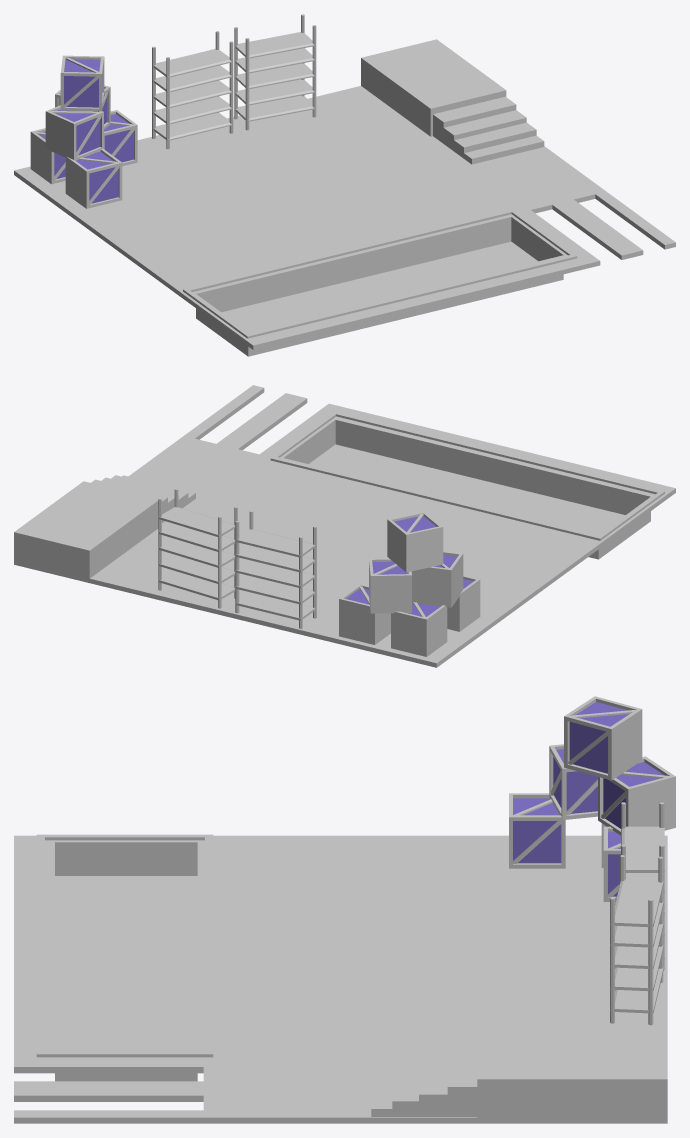
The model's file is Menu.fbx.
3 renders of one model, top to bottom at view 1: azimuth 30°, elevation 25°; view 2: azimuth 150°, elevation 25°; view 3: azimuth 270°, elevation 25°, orthographic. The views are drawn at different scales.
Visible parts, largest first — view 1: Cube.006; view 2: Cube.006; view 3: Cube.006.
Boxes of the visible parts, x1,y1,x2,y2 form: Cube.006: (14, 14, 675, 356); Cube.006: (14, 385, 675, 667); Cube.006: (14, 696, 675, 1123).
Bounding box in the file's own units: 3080 × 951 × 3057.
